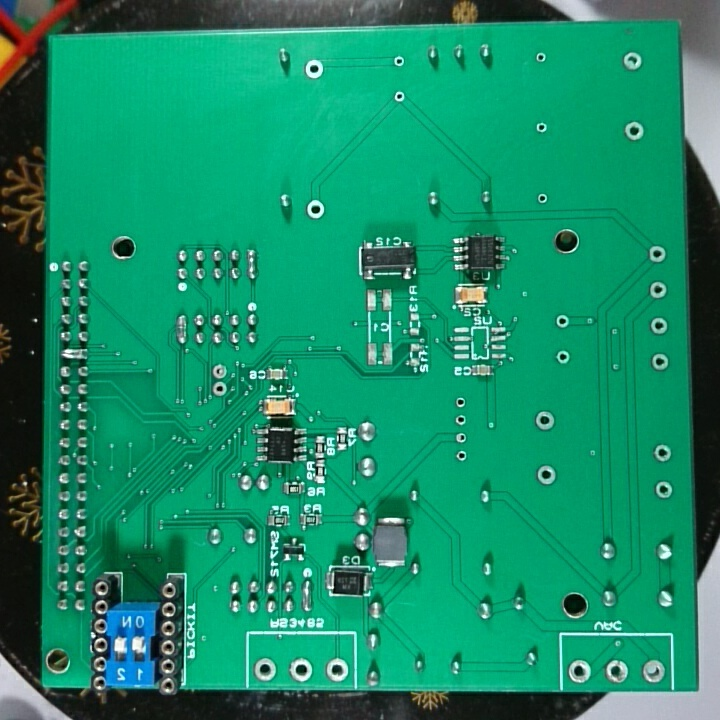F: (287, 655, 316, 684), (251, 655, 280, 683), (639, 658, 666, 686), (567, 657, 593, 686), (604, 657, 630, 686), (533, 463, 560, 490), (650, 441, 676, 466), (324, 658, 350, 683), (533, 409, 556, 435), (303, 198, 327, 222), (647, 350, 670, 374), (621, 49, 643, 74), (621, 120, 647, 141), (302, 58, 325, 81), (645, 242, 668, 265), (647, 316, 671, 338), (646, 279, 669, 300), (653, 480, 673, 504), (210, 378, 227, 400), (552, 312, 571, 331), (211, 361, 230, 380), (554, 347, 572, 366), (453, 411, 470, 429), (533, 49, 550, 66), (390, 53, 406, 71), (533, 120, 550, 135), (393, 90, 408, 106), (454, 430, 469, 446), (454, 446, 468, 463), (453, 394, 467, 410), (535, 192, 550, 206)
P: (243, 244, 259, 282), (59, 346, 93, 361), (300, 578, 315, 612), (174, 312, 188, 346)
